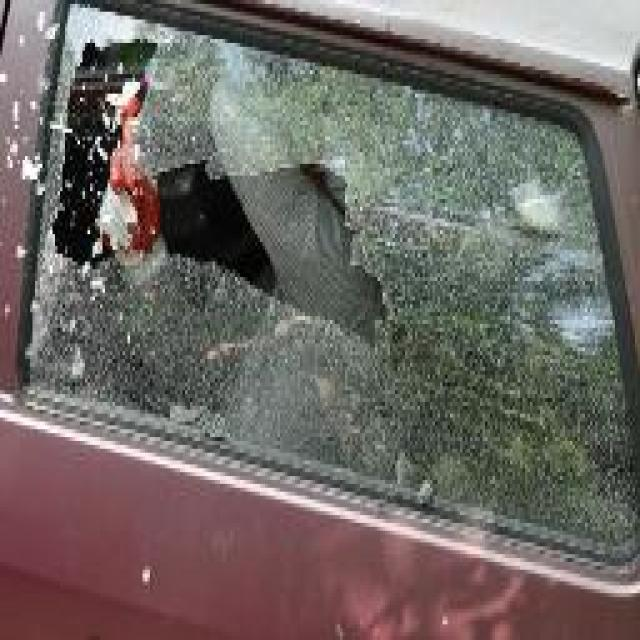Door: (22, 0, 638, 562)
